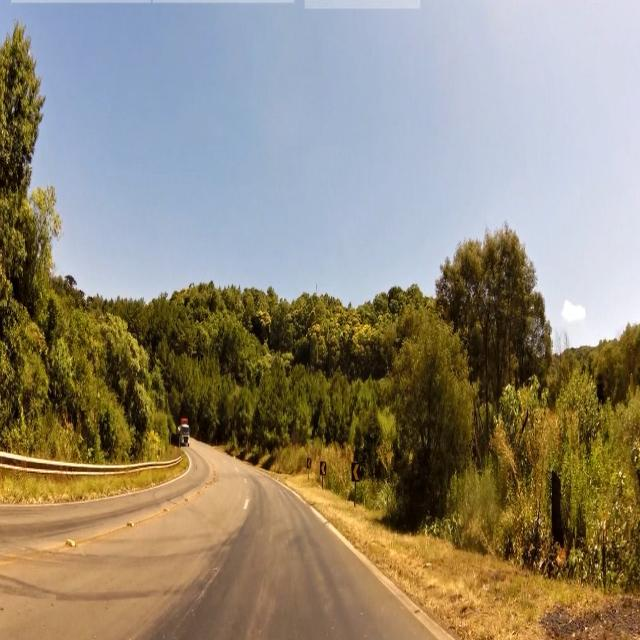Del: (351, 462, 360, 483), (319, 460, 328, 478), (306, 456, 312, 468)
